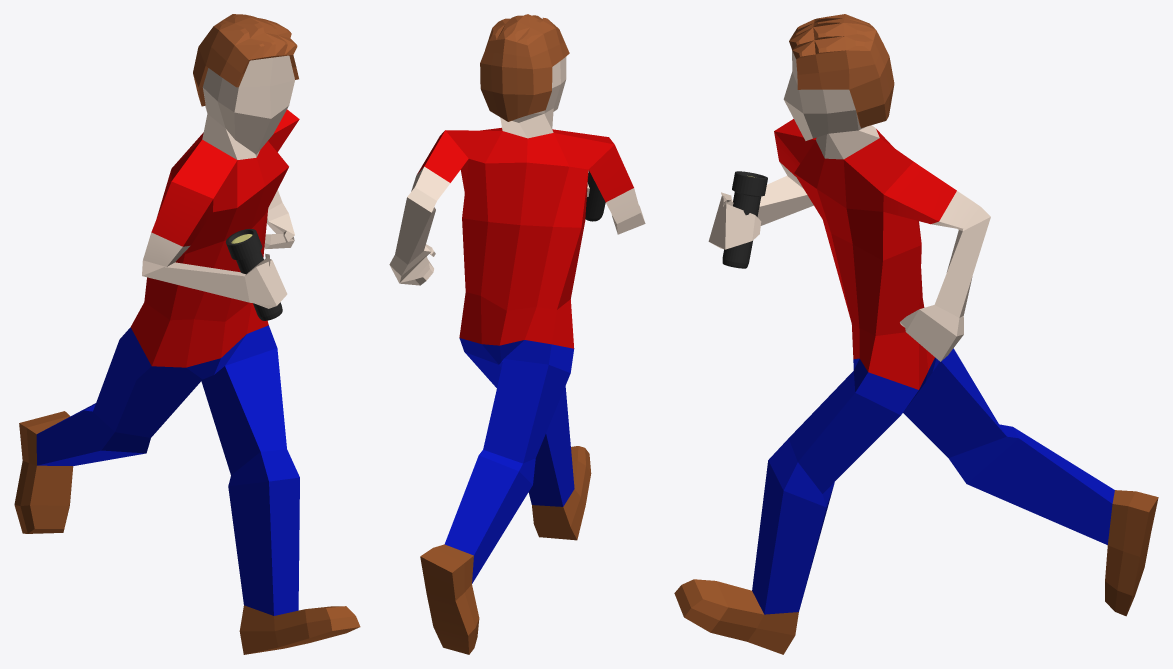
The model's file is Human_running_5.fbx.
3 renders of one model, left to right at view 1: azimuth 30°, elevation 25°; view 2: azimuth 150°, elevation 25°; view 3: azimuth 270°, elevation 25°, orthographic. The views are drawn at different scales.
Visible parts, largest first — view 1: Person.004, Flashlight; view 2: Person.004, Flashlight; view 3: Person.004, Flashlight.
Part boxes in pixels (bbox=[...]): Person.004: bbox=[14, 14, 360, 654]; Flashlight: bbox=[226, 229, 282, 320]; Person.004: bbox=[389, 14, 645, 654]; Flashlight: bbox=[585, 170, 605, 221]; Person.004: bbox=[674, 14, 1158, 654]; Flashlight: bbox=[722, 171, 767, 268].
Size of the model in its own units: 0.5711 by 1.53 by 1.06.
